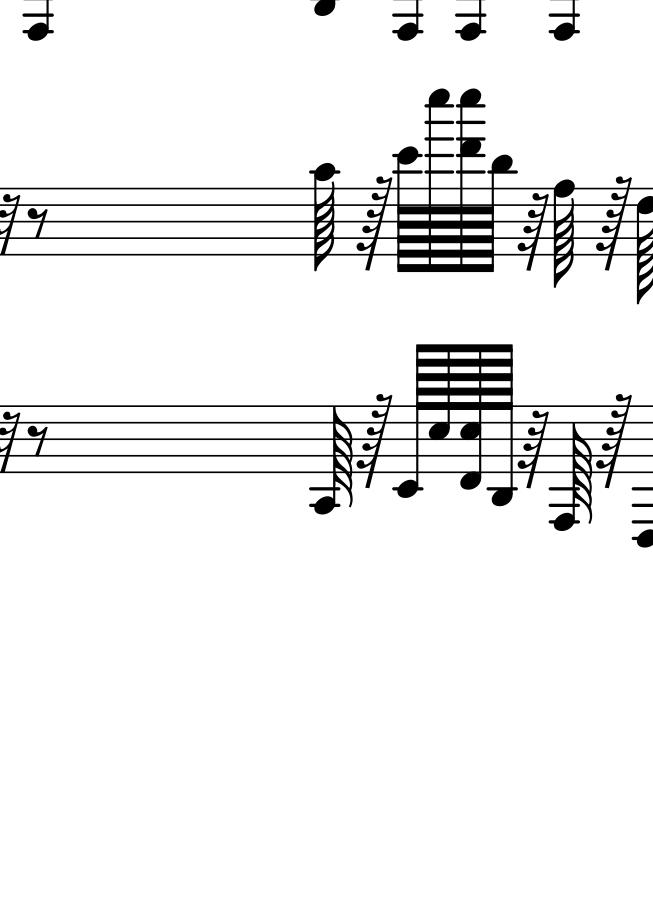128_-2: (393, 342, 427, 500)
128_-3: (488, 342, 516, 508)
128_-4: (309, 404, 355, 515)
128_-6: (553, 405, 593, 532)
128_10: (309, 161, 341, 273)
128_11: (484, 153, 514, 272)
128_12: (393, 145, 424, 274)
128_19: (423, 87, 456, 274)
128_5: (427, 342, 452, 473)
128_6: (634, 184, 653, 304)
Rests128: (596, 175, 632, 269), (596, 392, 632, 486), (357, 393, 393, 487), (355, 175, 391, 269)
Rests64: (518, 189, 550, 277), (518, 407, 549, 492)
Rests8: (26, 205, 49, 239), (26, 423, 49, 457)
